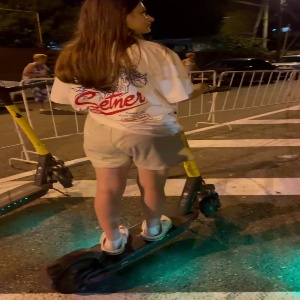human on a scooter: (40, 1, 231, 293)
